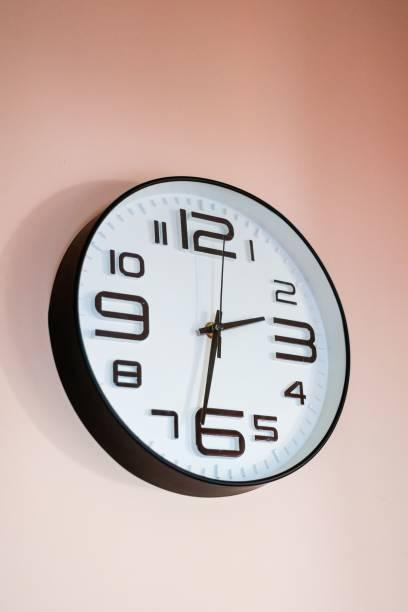clock: (51, 171, 357, 504)
